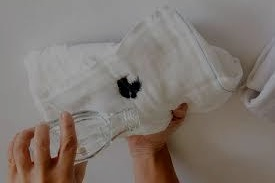ink: (118, 77, 142, 98)
